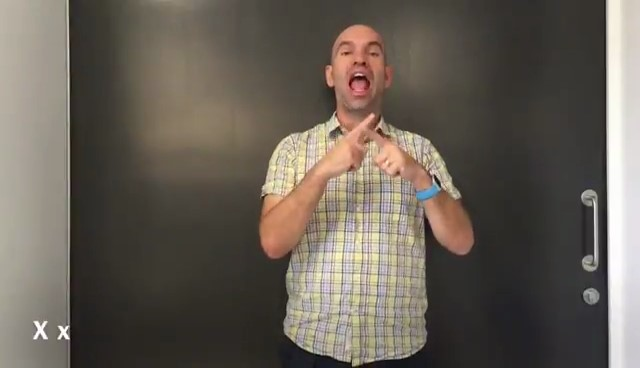X: (311, 106, 424, 191)
